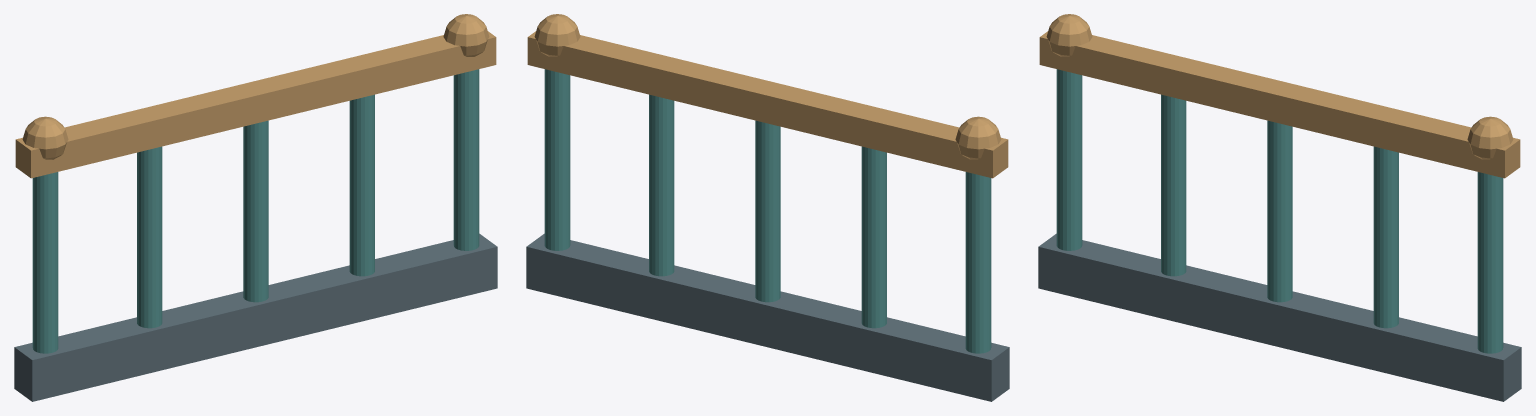
File: DeckRailModule.glb
3 renders of one model, left to right at view 1: azimuth 30°, elevation 25°; view 2: azimuth 150°, elevation 25°; view 3: azimuth 330°, elevation 25°, orthographic.
Parts seen in each view (by area): view 1: DeckRailModule; view 2: DeckRailModule; view 3: DeckRailModule.
Part boxes in pixels (x1,y1,x2,y2): DeckRailModule: [14, 14, 497, 401]; DeckRailModule: [526, 14, 1009, 401]; DeckRailModule: [1038, 14, 1521, 401].
Bounding box in the file's own units: 2.1 × 1.18 × 0.18.
